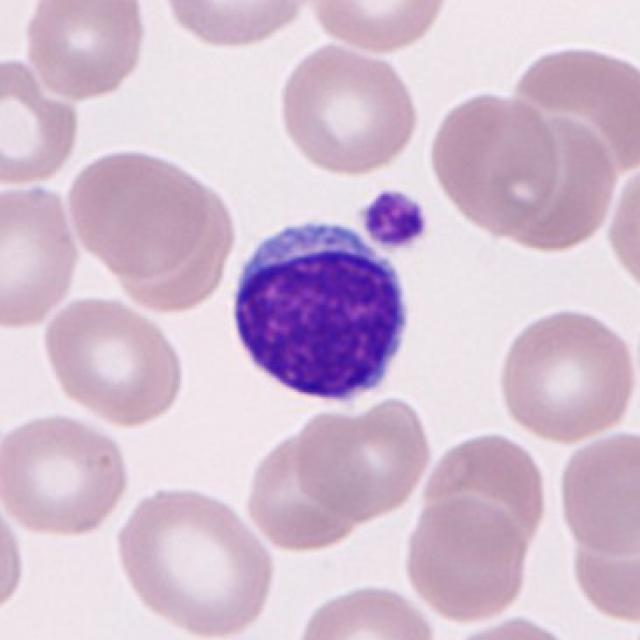Lymphocyte: (222, 206, 421, 413)
Platelets: (356, 186, 434, 252)
RBC: (110, 481, 280, 638), (100, 173, 243, 321), (425, 86, 563, 238), (493, 302, 638, 446), (274, 38, 422, 179), (38, 293, 189, 429), (63, 144, 213, 277), (502, 38, 638, 184), (488, 107, 622, 255), (416, 427, 553, 562), (240, 414, 370, 556), (292, 392, 434, 522), (0, 406, 133, 539), (401, 494, 534, 624), (19, 0, 152, 102), (0, 179, 84, 331), (0, 50, 82, 191), (554, 425, 638, 557), (291, 577, 442, 640), (156, 0, 324, 52), (306, 0, 455, 56), (567, 520, 638, 626), (603, 158, 640, 300), (437, 612, 579, 640), (0, 492, 30, 624)
